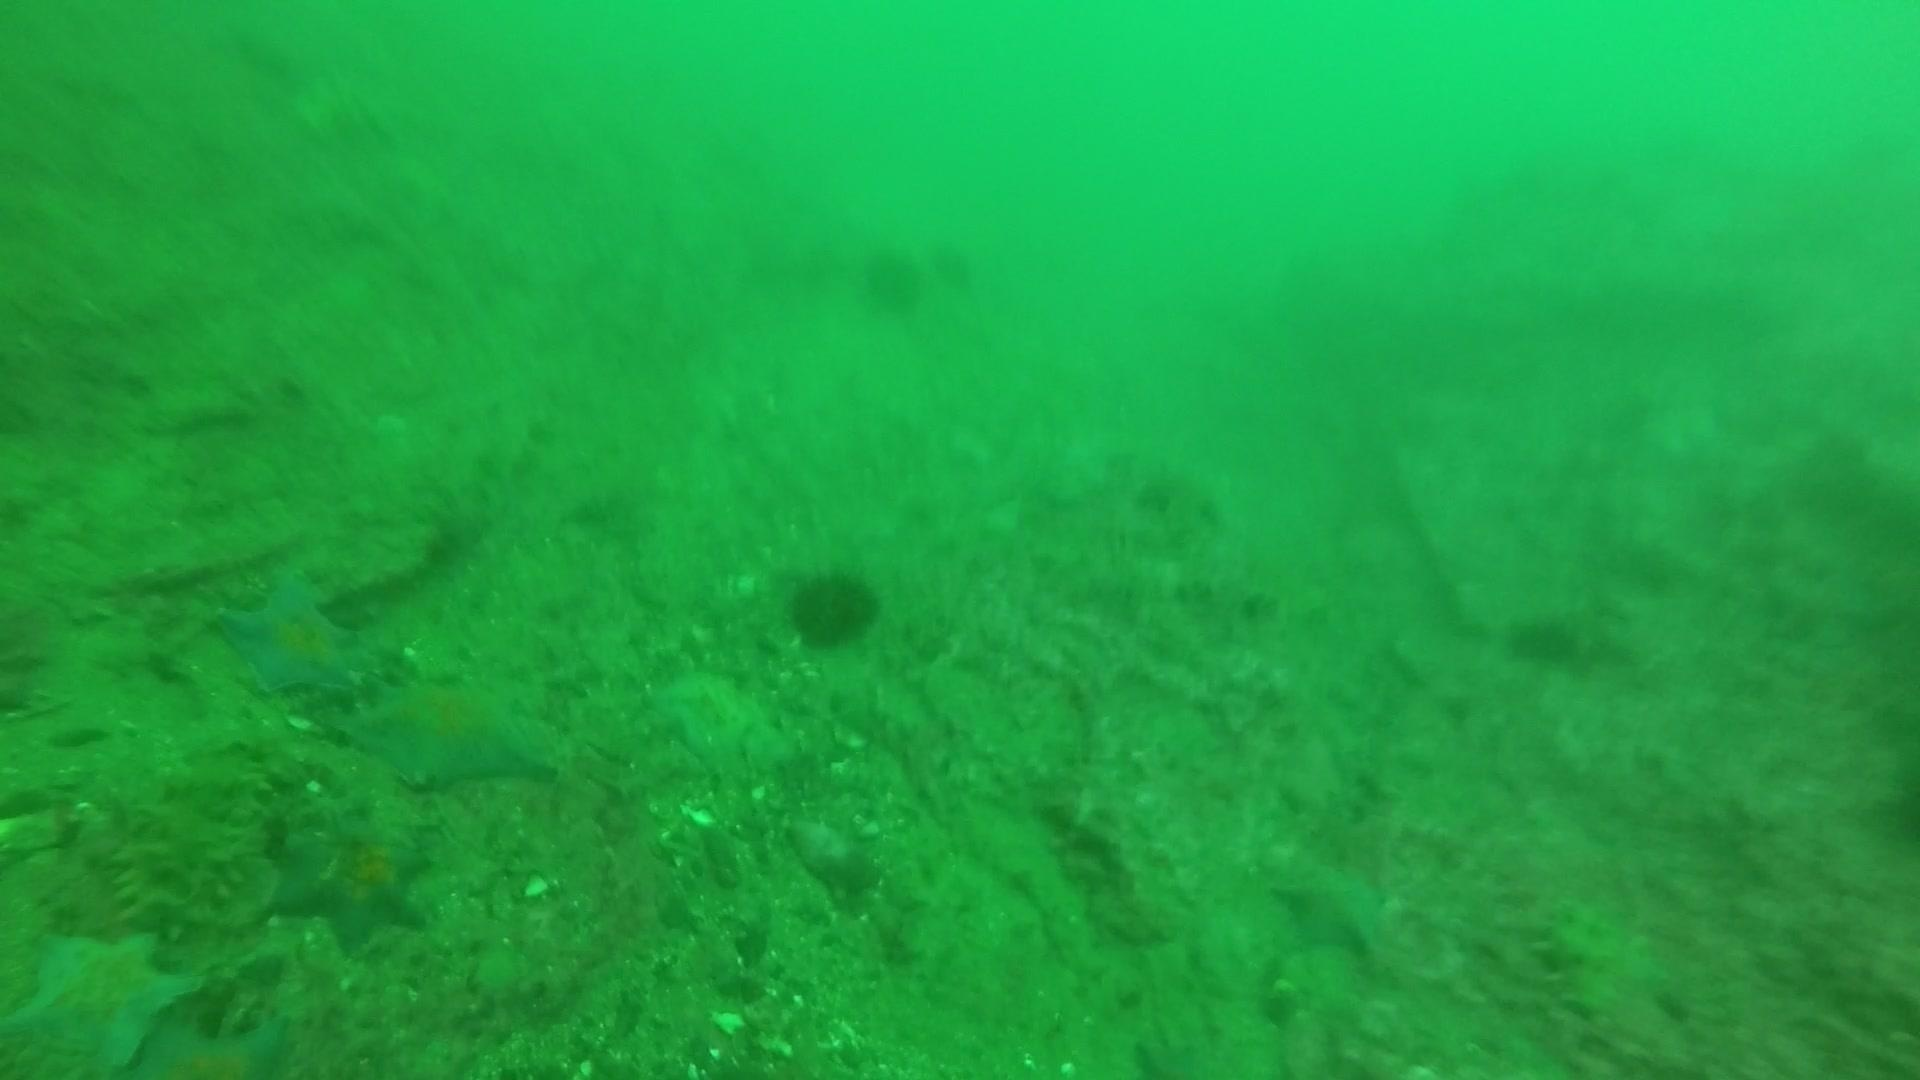echinus: (781, 560, 884, 654), (856, 241, 928, 316), (1505, 608, 1588, 673), (1867, 767, 1920, 856), (927, 233, 981, 294)
holothurian: (102, 740, 276, 934), (1528, 894, 1680, 1050)
starfish: (5, 920, 202, 1076), (338, 673, 564, 795), (262, 808, 440, 953), (214, 567, 365, 702), (645, 662, 796, 785), (1267, 849, 1396, 963), (132, 1007, 295, 1073)
